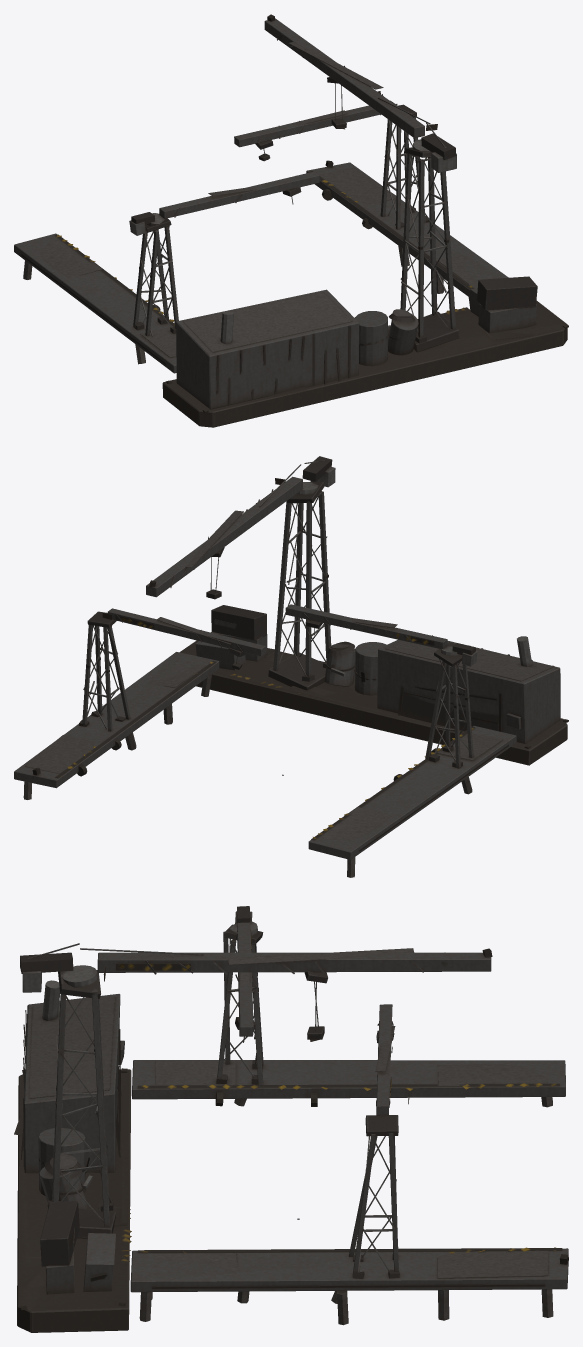
Rendered from chs_advshipyard_wreck.fbx.
3 renders of one model, top to bottom at view 1: azimuth 30°, elevation 25°; view 2: azimuth 150°, elevation 25°; view 3: azimuth 270°, elevation 25°, orthographic. The views are drawn at different scales.
Visible parts, largest first — view 1: base_bar, jib_bar, jib1_bar, jib2_bar; view 2: base_bar, jib_bar, jib1_bar, jib2_bar; view 3: base_bar, jib_bar, jib1_bar, jib2_bar.
Boxes of the visible parts, x1,y1,x2,y2 form: base_bar: [14, 104, 568, 427]; jib_bar: [264, 14, 456, 172]; jib1_bar: [129, 171, 319, 235]; jib2_bar: [234, 91, 395, 161]; base_bar: [14, 482, 568, 877]; jib_bar: [146, 456, 335, 599]; jib1_bar: [285, 604, 477, 666]; jib2_bar: [102, 608, 265, 669]; base_bar: [14, 924, 568, 1332]; jib_bar: [20, 943, 492, 1041]; jib1_bar: [229, 906, 257, 1042]; jib2_bar: [375, 1004, 409, 1115].
Bounding box in the file's own units: 4757 × 2927 × 4675.
2 materials, 2 textured.
